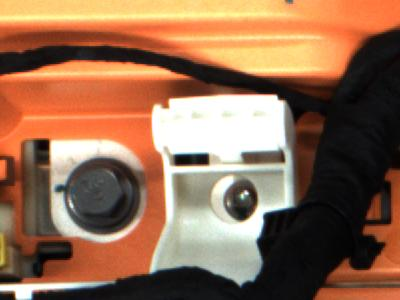nut_b: (56, 147, 147, 246)
